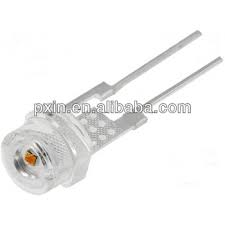LED: (3, 77, 155, 197)
